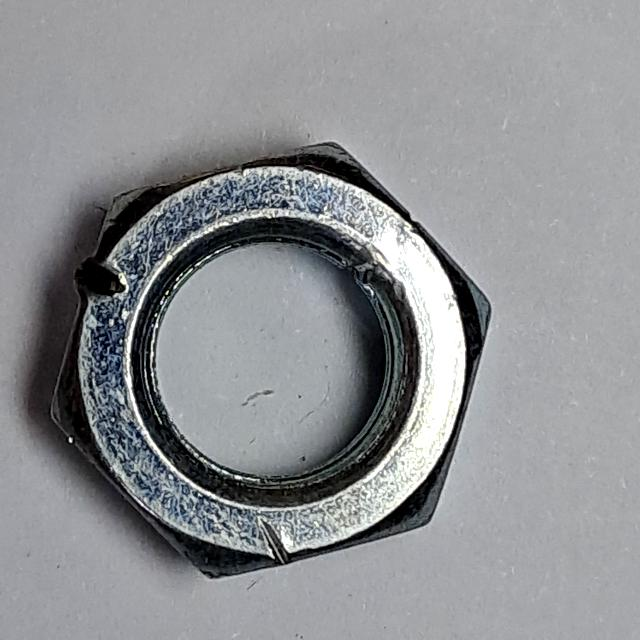Scratches: (40, 122, 508, 593)
